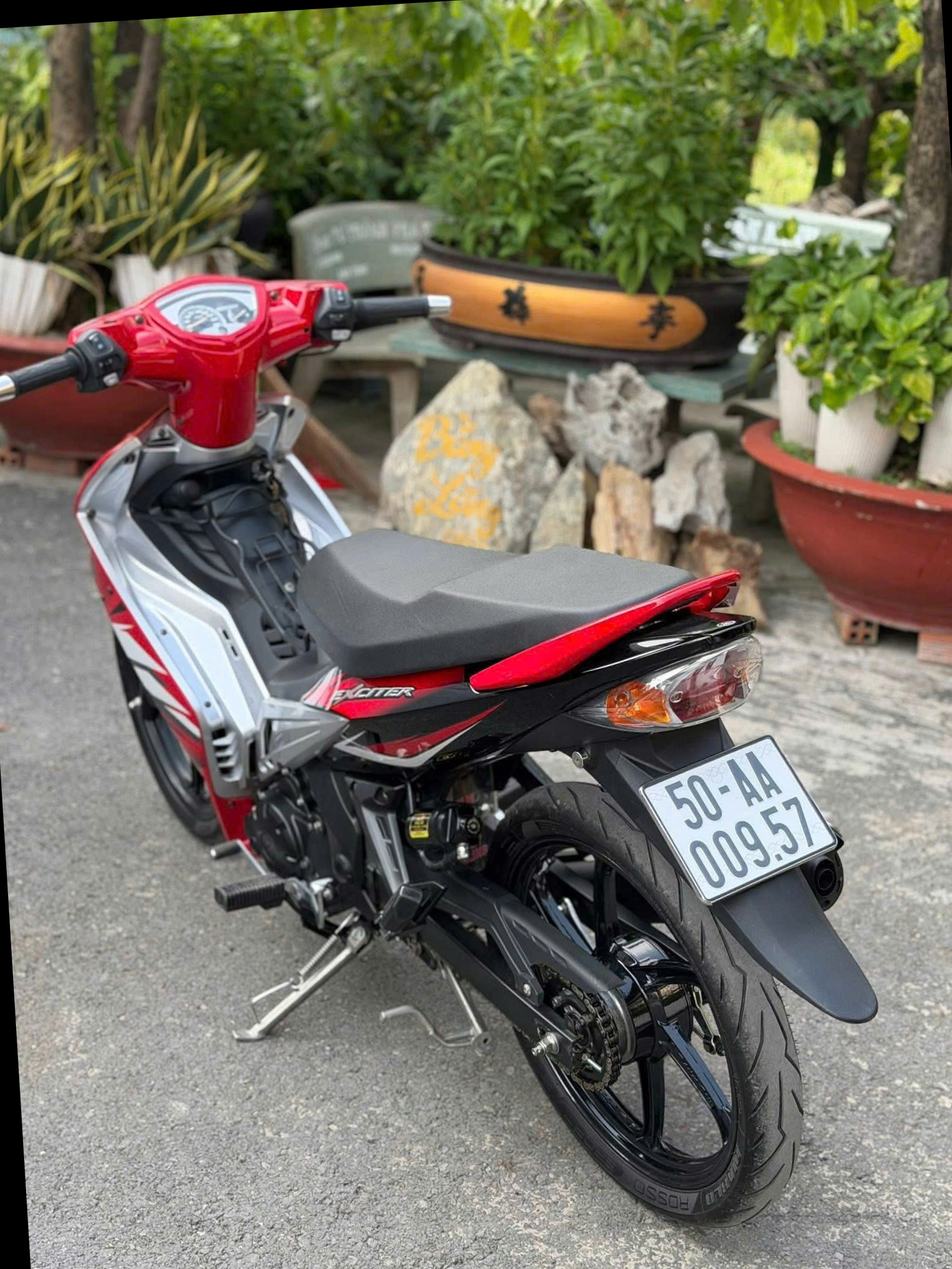Bien-so: (574, 752, 783, 910)
